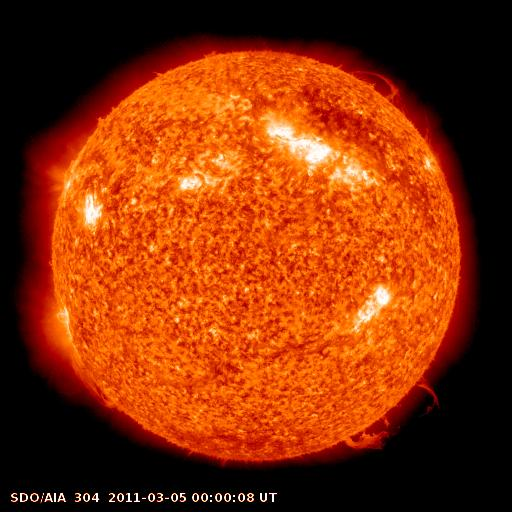prominence: (336, 367, 446, 459), (329, 57, 407, 108), (61, 351, 121, 414), (411, 107, 457, 154)
